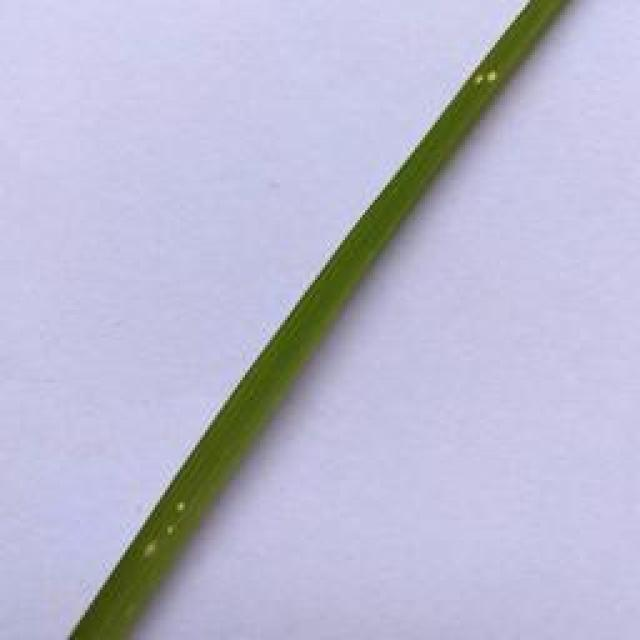Unhealthy: (142, 539, 157, 558), (486, 68, 499, 84), (472, 72, 485, 86), (174, 500, 187, 514), (166, 525, 175, 537)
